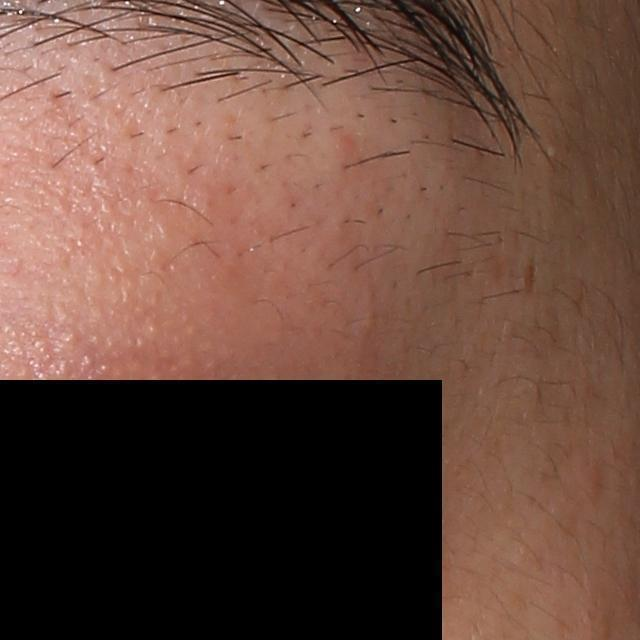melasma: (521, 261, 537, 294)
